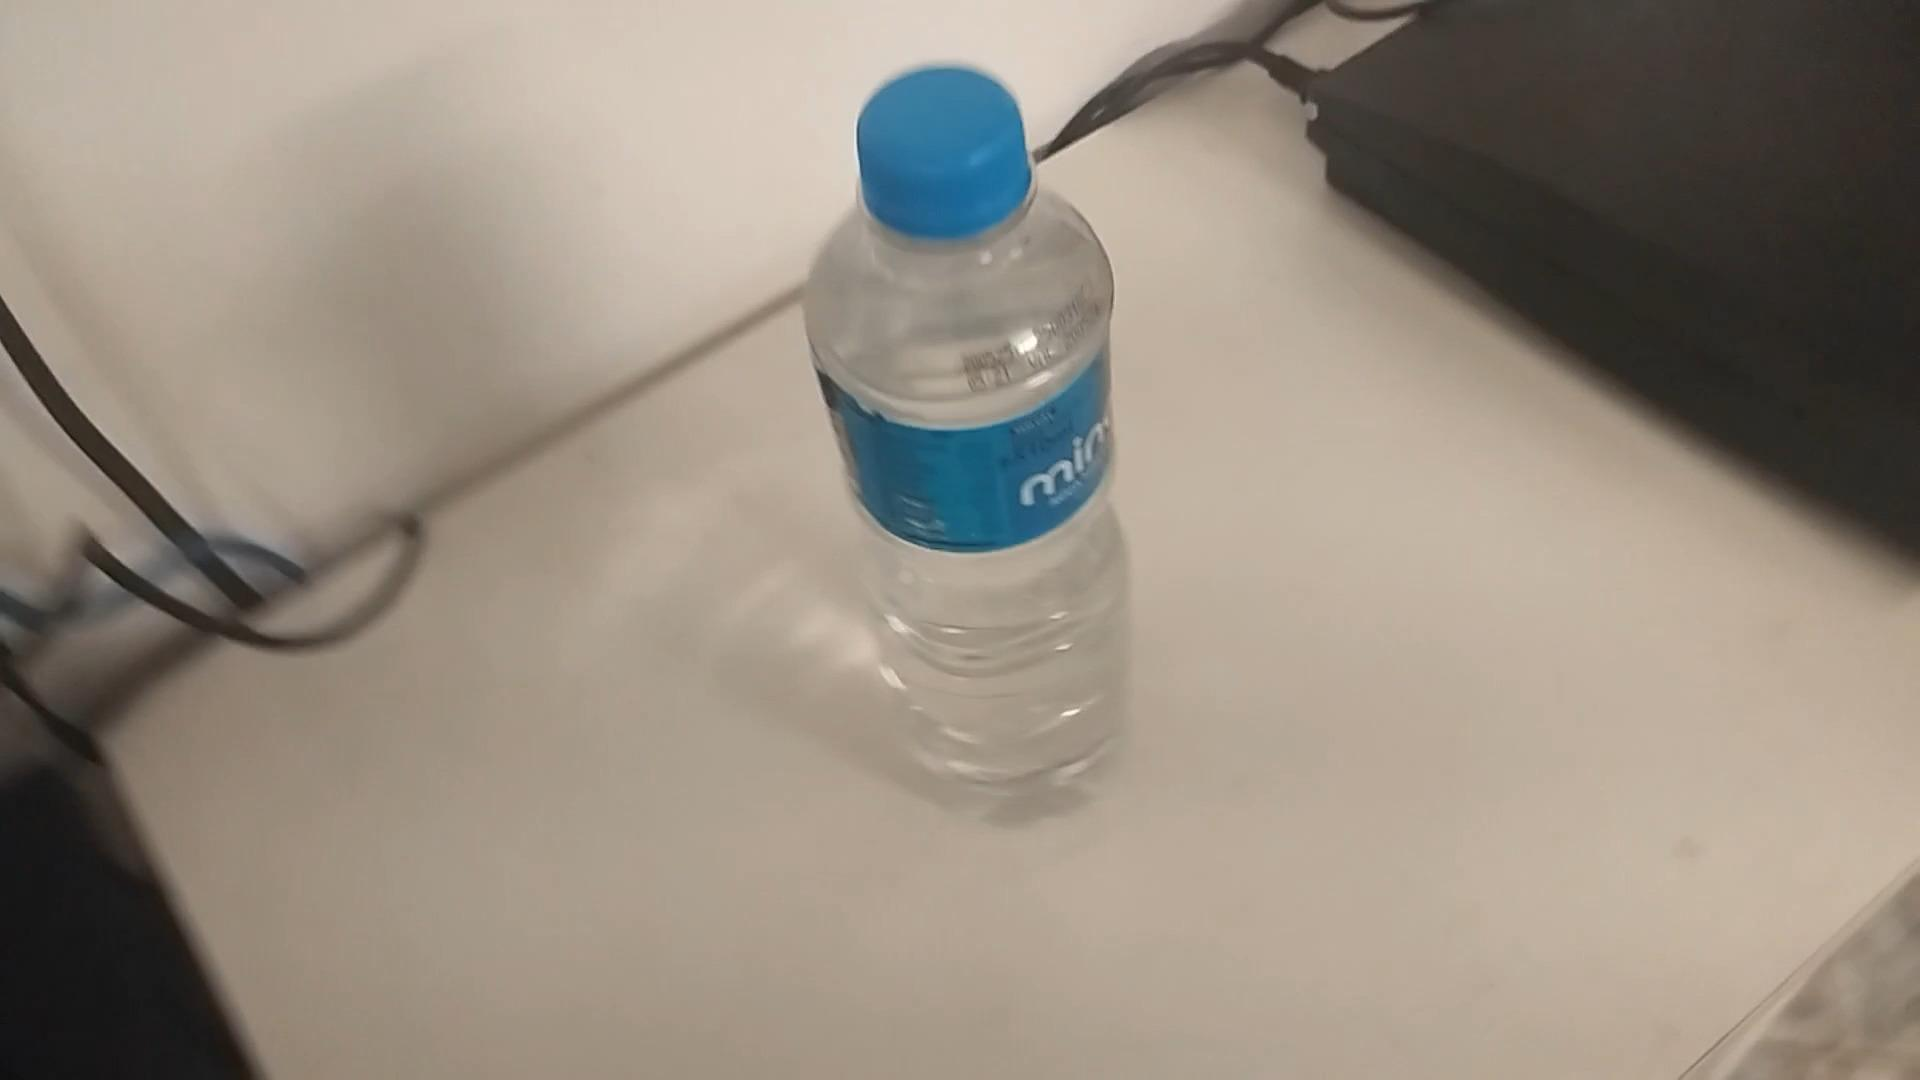agua: (810, 69, 1145, 827)
